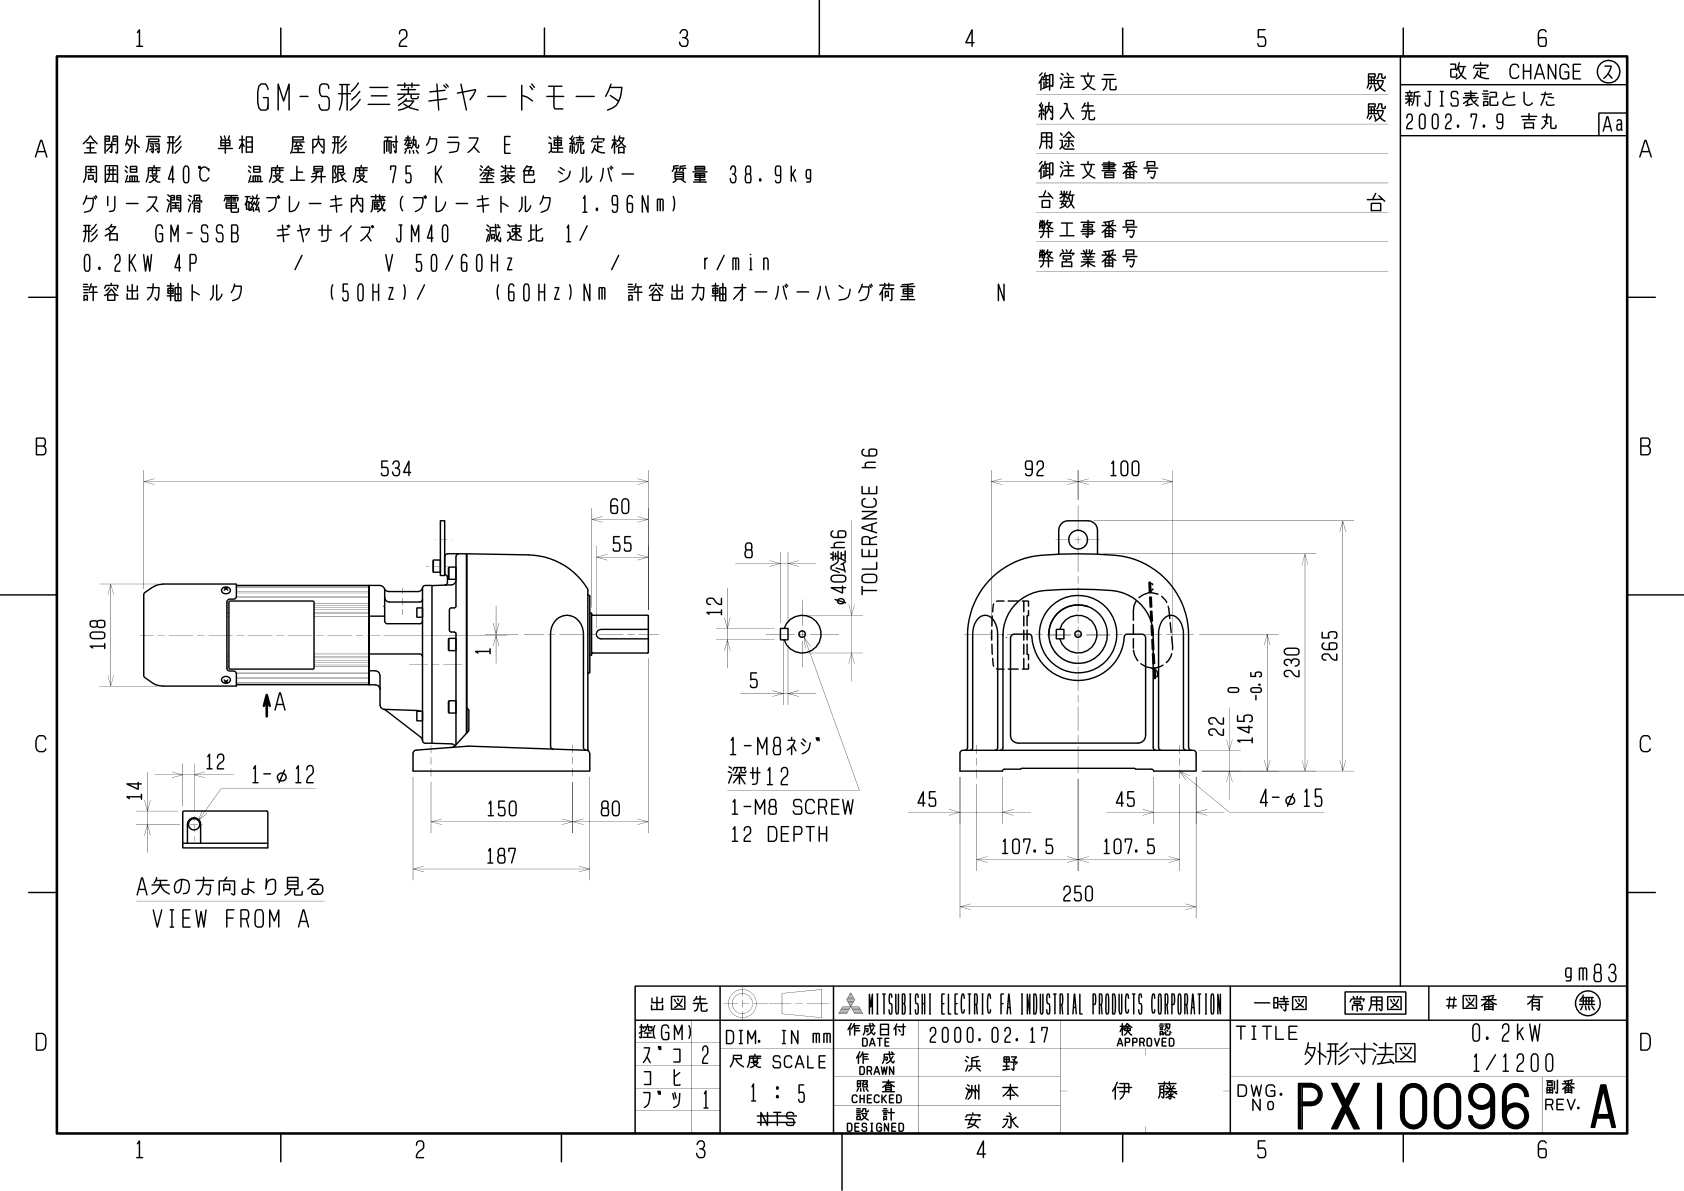GM_S_屋内＿三相_脚: (73, 392, 1377, 978)
